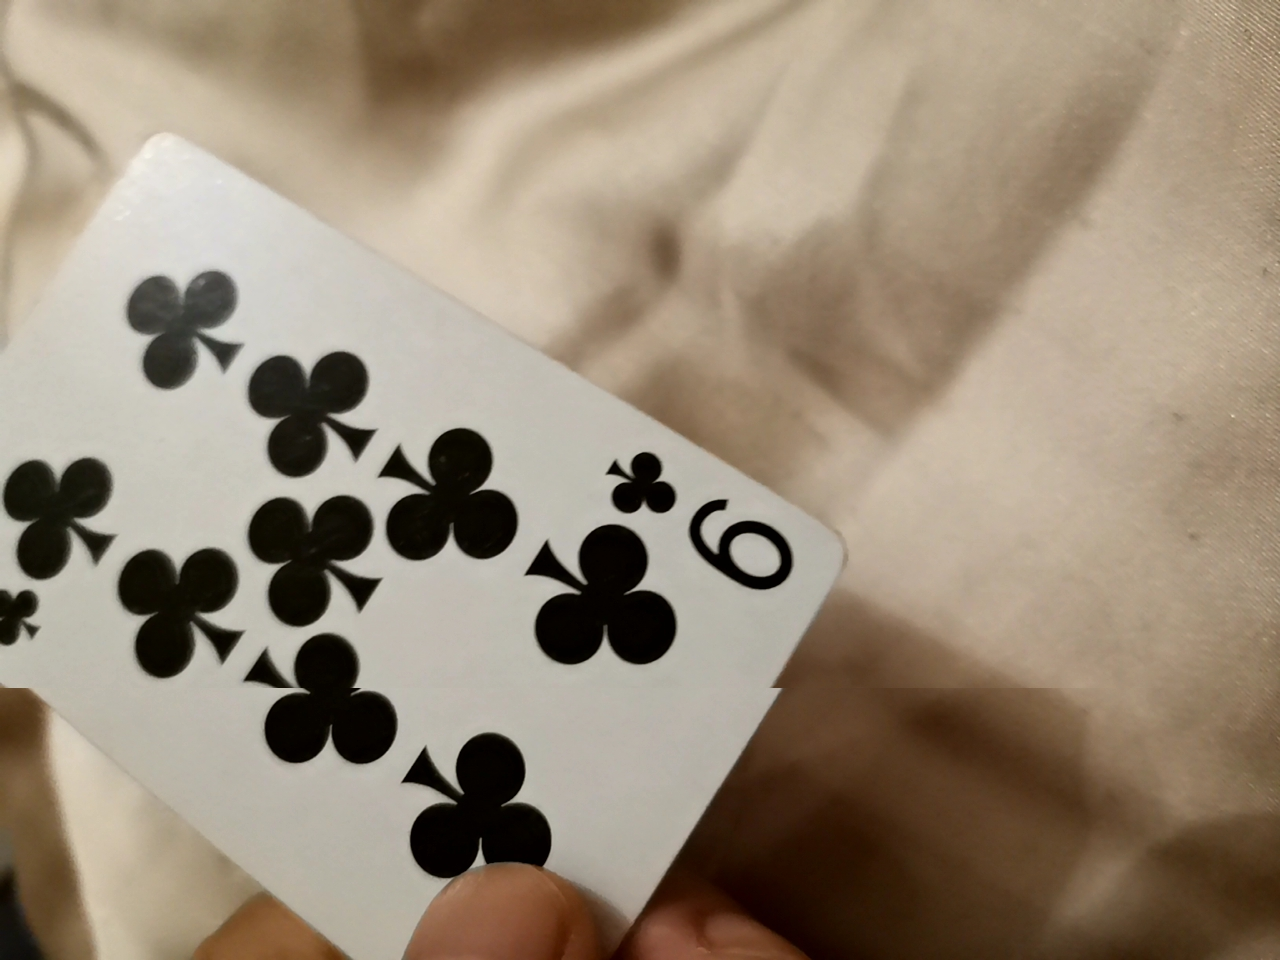mh 9: (7, 128, 875, 955)
